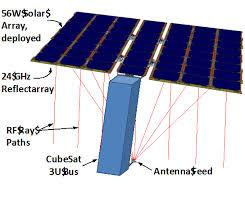body: (96, 74, 142, 176)
solar: (29, 10, 141, 77), (148, 22, 244, 95), (116, 19, 168, 78)
